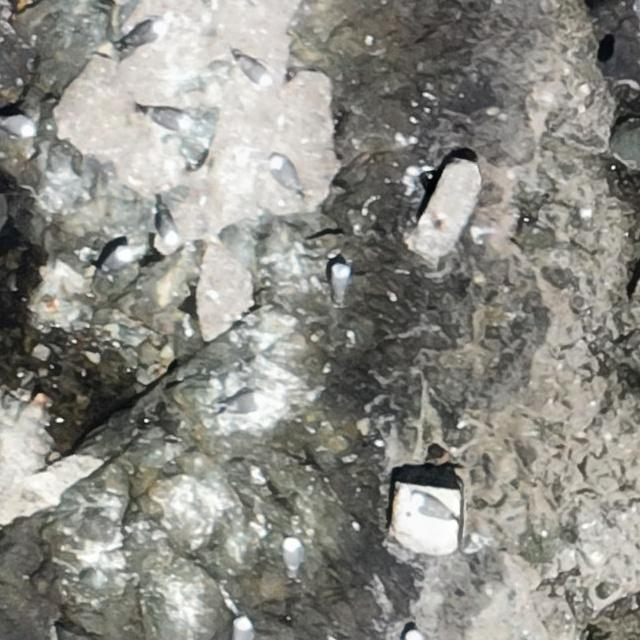umineko: (412, 491, 458, 521), (269, 154, 301, 197), (154, 200, 178, 247), (0, 112, 38, 140), (121, 23, 160, 44), (149, 110, 189, 130), (238, 58, 269, 83), (332, 263, 350, 297), (228, 394, 258, 414), (284, 538, 302, 570), (103, 250, 129, 272), (233, 617, 251, 640)
